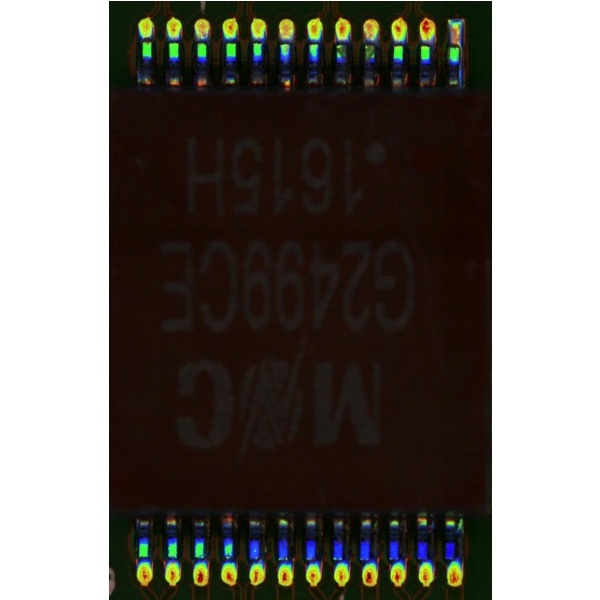Bad_podu: (451, 35, 460, 54)
